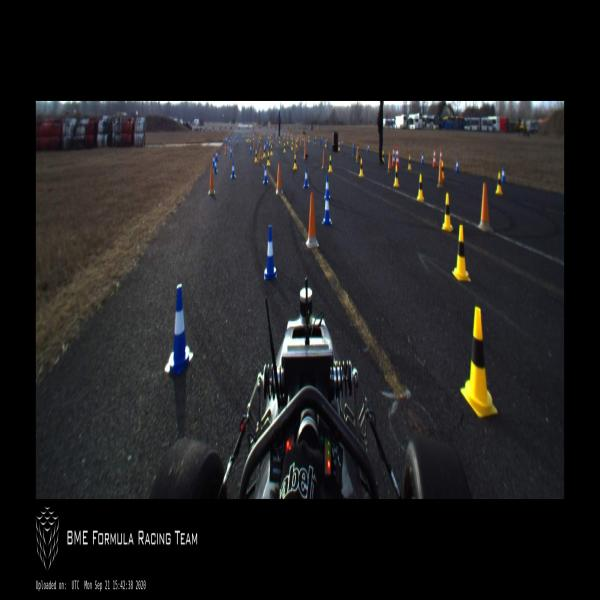blue_cone: (164, 284, 193, 377), (264, 224, 276, 280), (322, 189, 332, 226), (324, 174, 330, 200), (303, 168, 309, 189), (263, 166, 268, 184), (230, 161, 235, 178), (501, 166, 505, 183), (214, 159, 218, 174), (212, 154, 216, 167), (352, 141, 355, 156), (421, 152, 424, 165), (456, 159, 459, 172), (249, 145, 252, 154), (216, 150, 218, 162), (367, 142, 369, 152), (230, 148, 232, 156), (229, 138, 230, 145), (237, 139, 238, 145), (342, 140, 343, 146), (226, 138, 227, 144)
large_orange_cone: (396, 146, 400, 168), (392, 146, 396, 167), (439, 150, 443, 170), (433, 149, 436, 167)
yellow_cone: (461, 306, 497, 418), (452, 226, 471, 282), (442, 192, 453, 230), (417, 174, 424, 202), (496, 172, 502, 194), (394, 167, 400, 186), (359, 158, 364, 177), (440, 161, 444, 179), (328, 155, 332, 172), (293, 154, 297, 169), (266, 152, 270, 165), (408, 157, 412, 170), (382, 150, 385, 164), (255, 151, 258, 162), (270, 145, 273, 155), (283, 143, 286, 152), (263, 148, 266, 157), (296, 139, 298, 149), (291, 141, 293, 150), (338, 143, 340, 151), (325, 139, 327, 147), (286, 137, 288, 145), (308, 136, 310, 144), (358, 146, 359, 159), (278, 138, 280, 144), (250, 136, 251, 143)
